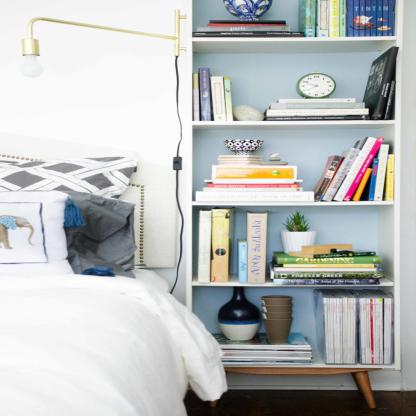lamp: (180, 0, 404, 370)
